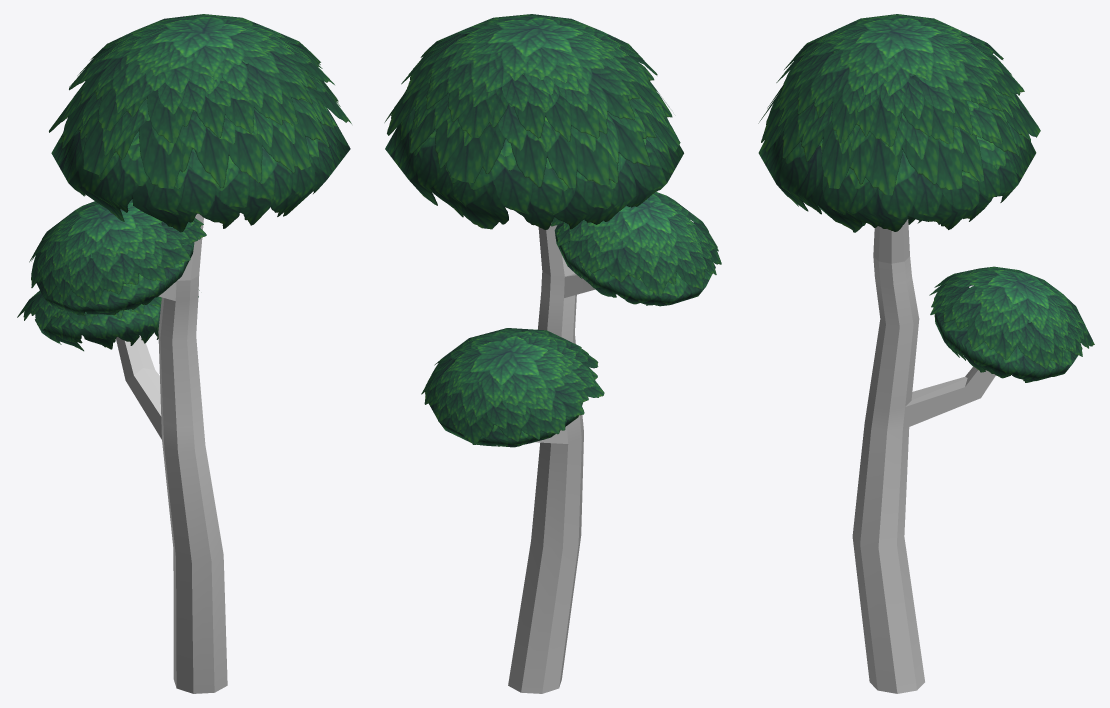
Rendered from Asset_Tree_A_01.fbx.
The picture shows the model from 3 angles, left to right: view 1: azimuth 30°, elevation 25°; view 2: azimuth 150°, elevation 25°; view 3: azimuth 270°, elevation 25°; orthographic projection.
Parts seen in each view (by area): view 1: Tree_01_déplier2; view 2: Tree_01_déplier2; view 3: Tree_01_déplier2.
Part boxes in pixels (x1,y1,x2,y2): Tree_01_déplier2: (17,14,351,693); Tree_01_déplier2: (384,14,721,693); Tree_01_déplier2: (758,14,1094,693).
Bounding box in the file's own units: 6.97 × 14.14 × 6.73.
